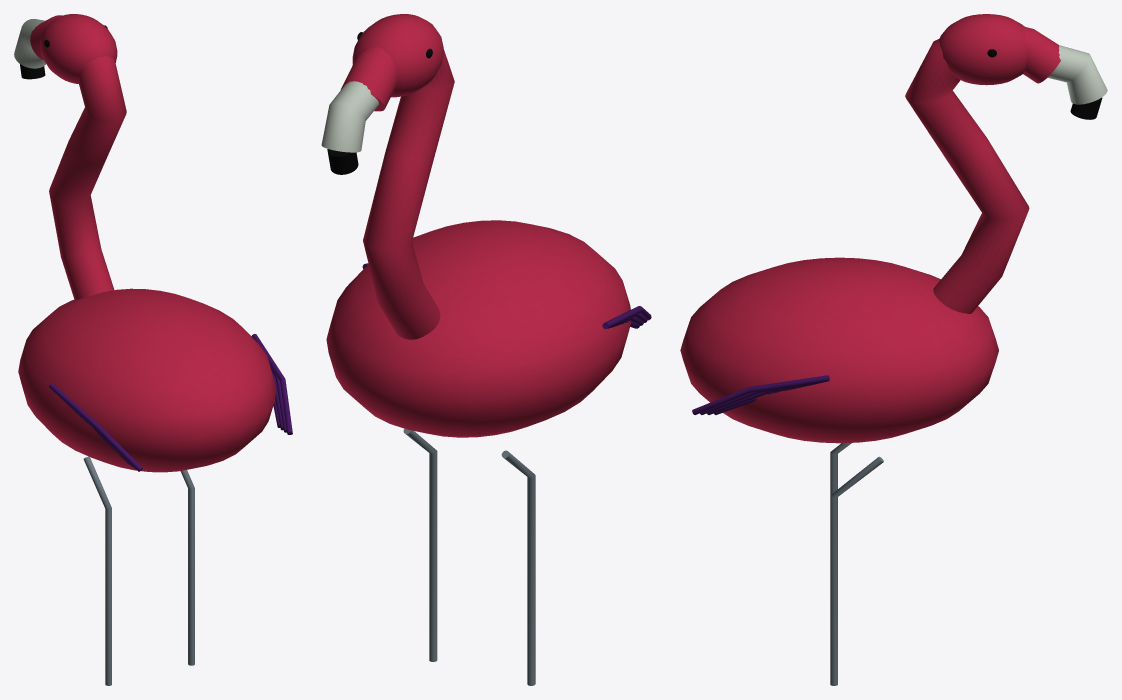
The model's file is PinkFlamingo.gltf.
3 renders of one model, left to right at view 1: azimuth 30°, elevation 25°; view 2: azimuth 150°, elevation 25°; view 3: azimuth 270°, elevation 25°, orthographic. The views are drawn at different scales.
Visible parts, largest first — view 1: PinkFlamingo__Body; view 2: PinkFlamingo__Body; view 3: PinkFlamingo__Body.
Part boxes in pixels (x1=…): PinkFlamingo__Body: x1=14, y1=14, x2=292, y2=685; PinkFlamingo__Body: x1=321, y1=14, x2=651, y2=685; PinkFlamingo__Body: x1=680, y1=14, x2=1107, y2=685.
Size of the model in its own units: 0.308 by 0.84 by 0.504.
1 material, 1 textured.
